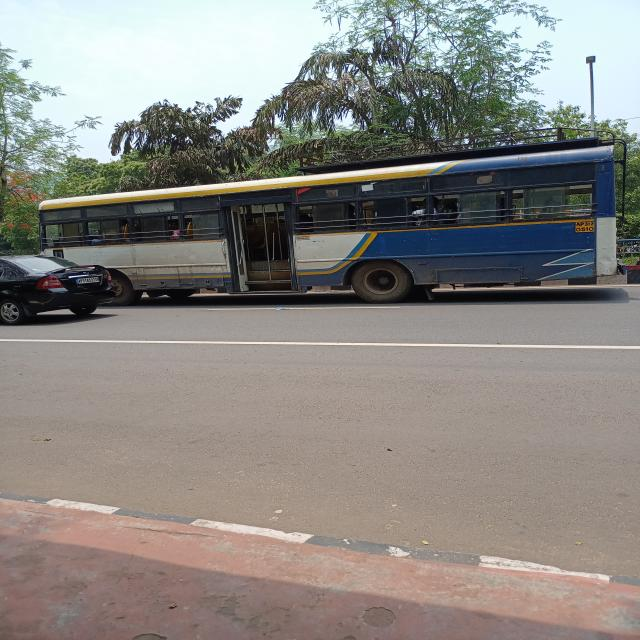bus: (84, 142, 640, 291)
car: (0, 244, 139, 338)
